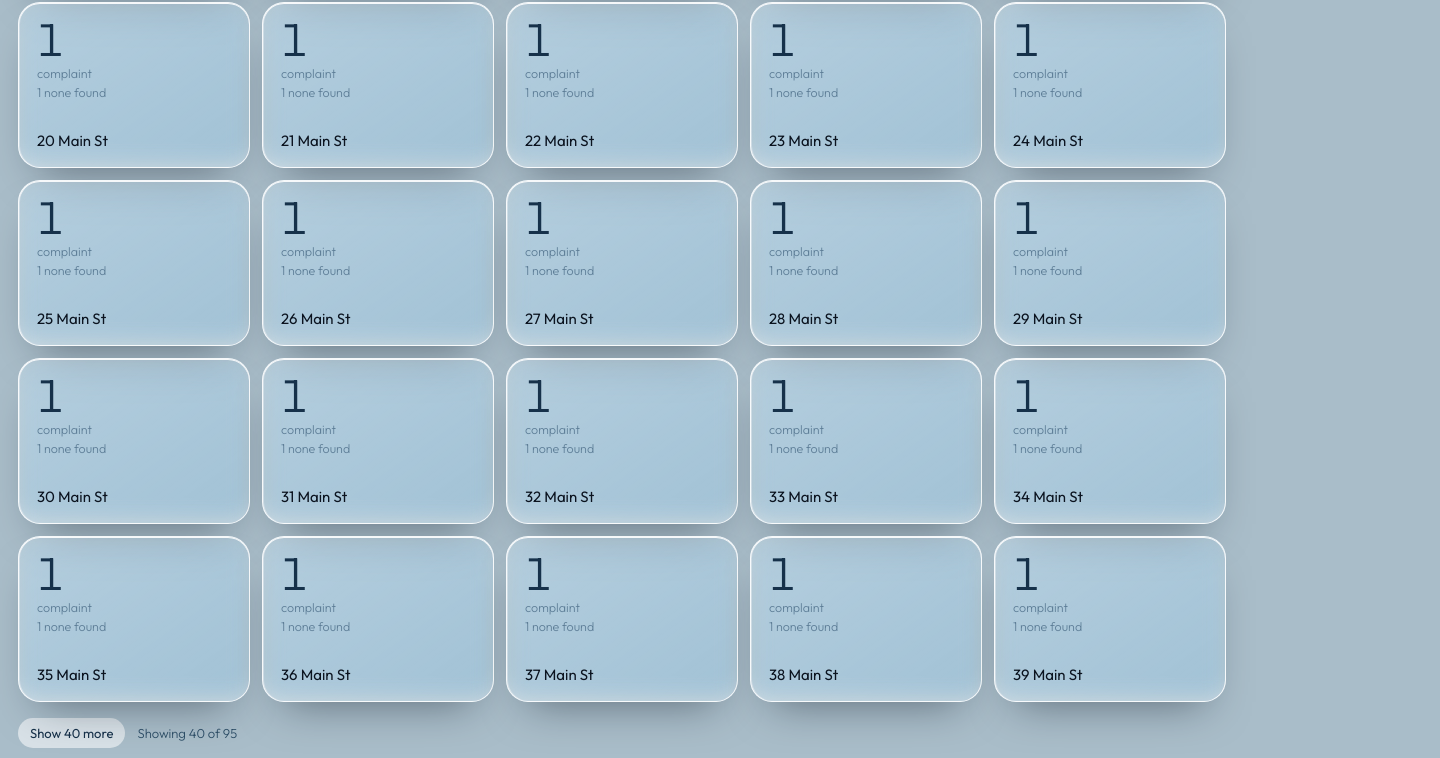
Scenario: in pages of 40 › shows 40 cards and reveals 40 more each time Show 40 more is pressed
The width and height of the screenshot is (1440, 758).
(page scrolled)
Expected: the text "Showing 40 of 95" is shown, [137,724,237,742]
Click the button "Show 40 more": coordinates (72, 733) [18,718,125,748]
(page scrolled)
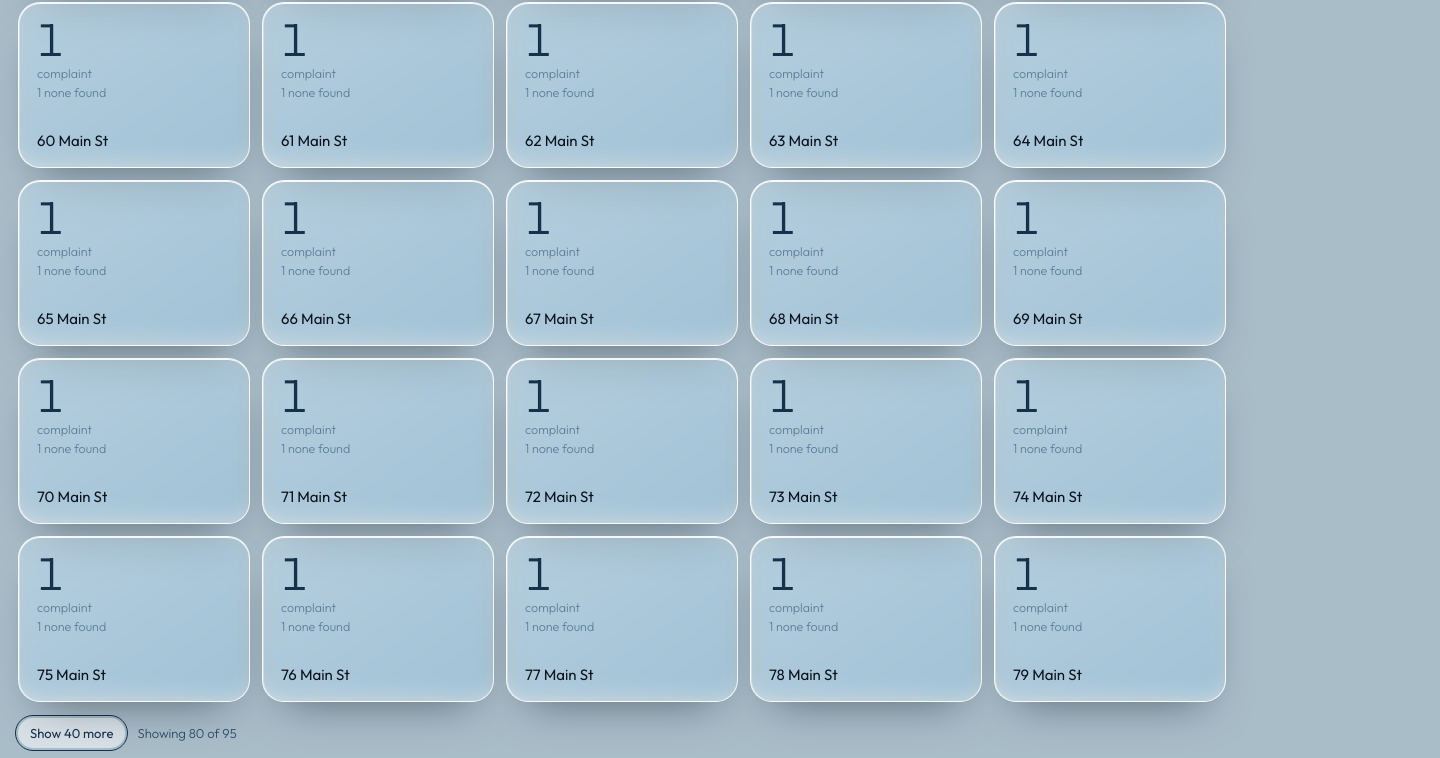
Click the button "Show 40 more": coordinates (72, 733) [18,718,125,748]
(page scrolled)
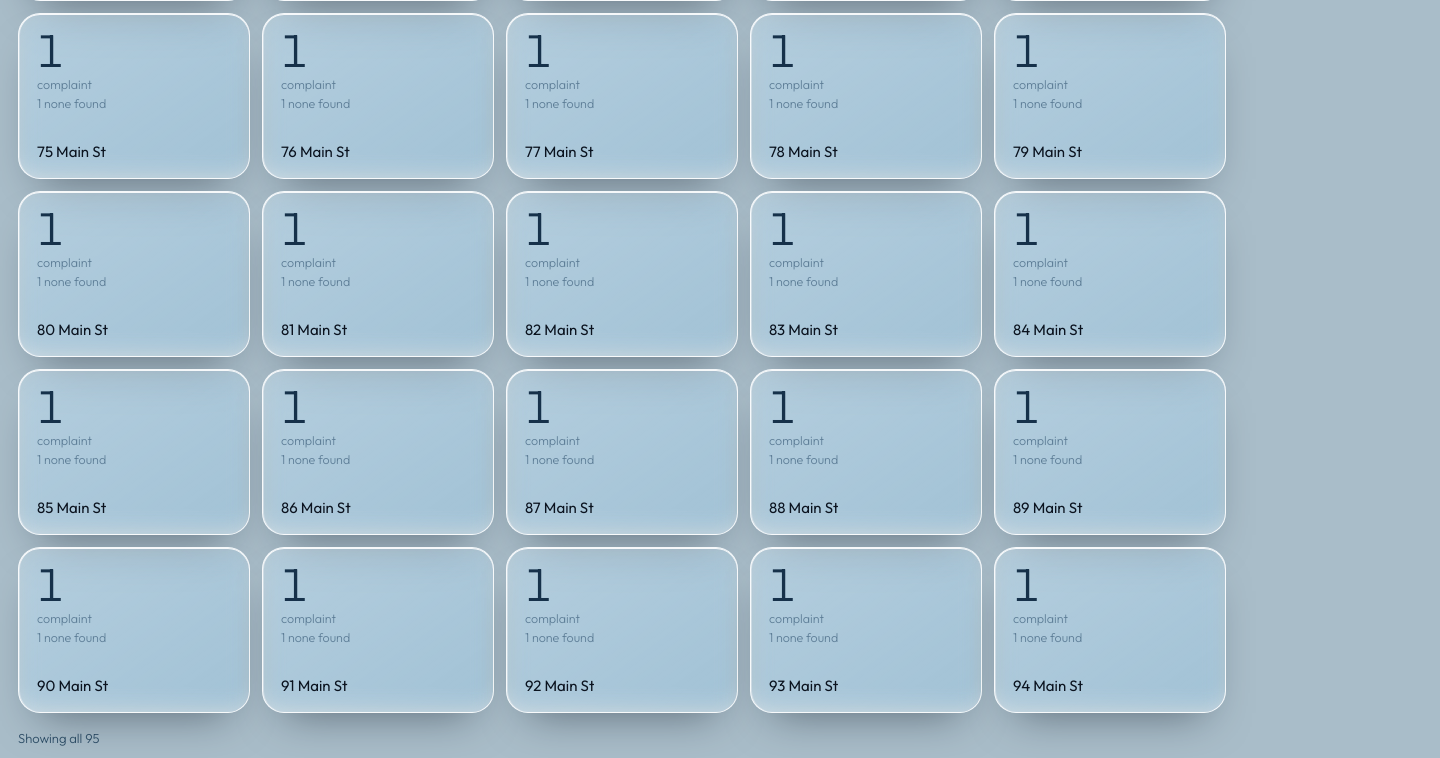
Now the button "Show 40 more" is gone
Now the text "Showing all 95" is shown, box [18,729,100,748]
